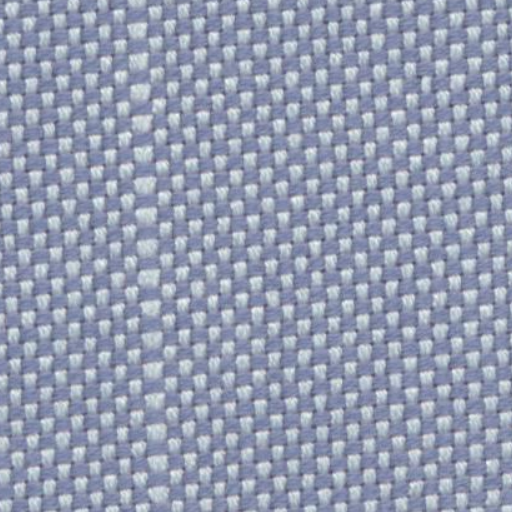TuoSha: (100, 14, 196, 495)
